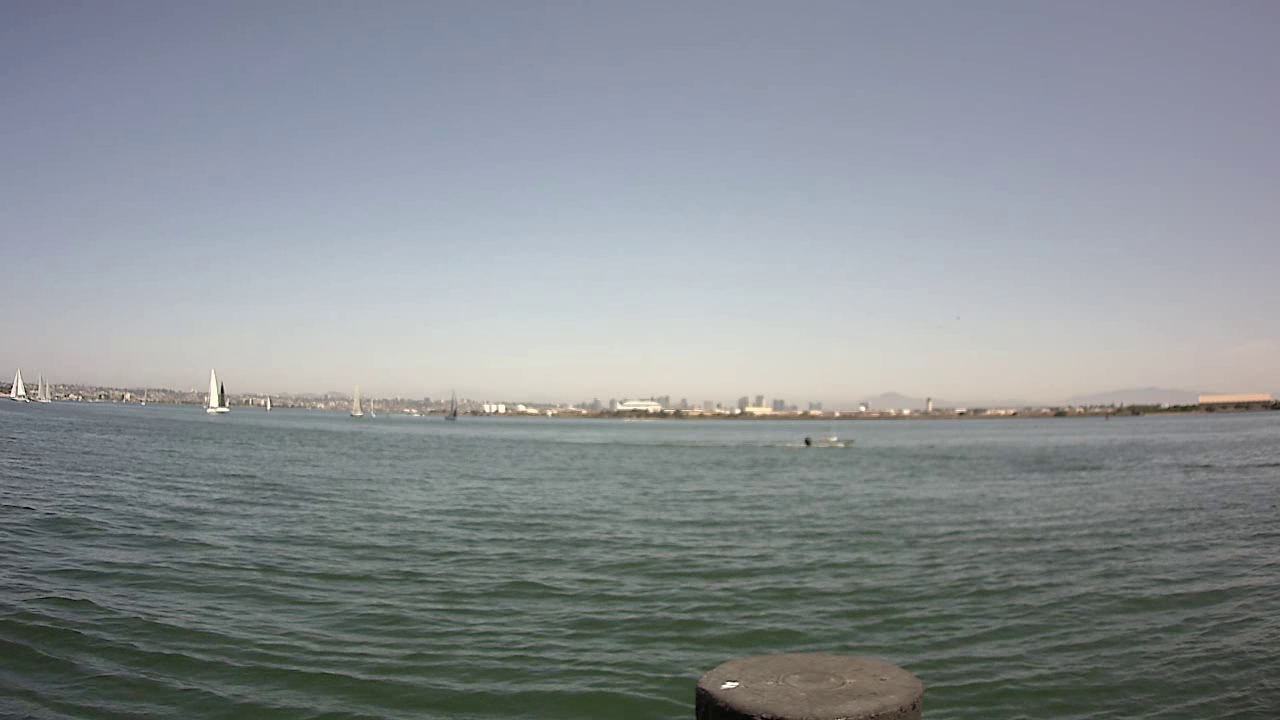target: (798, 426, 861, 453)
